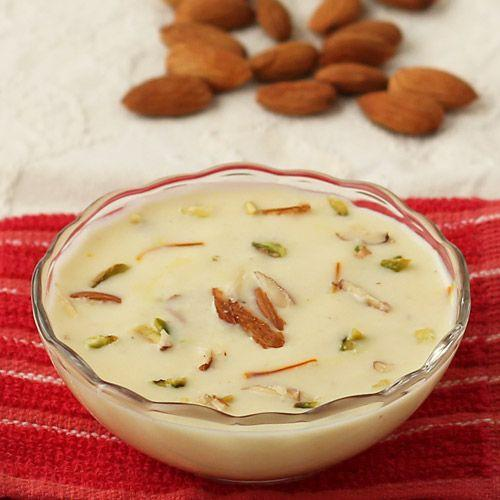Kheer: (53, 181, 452, 482)
